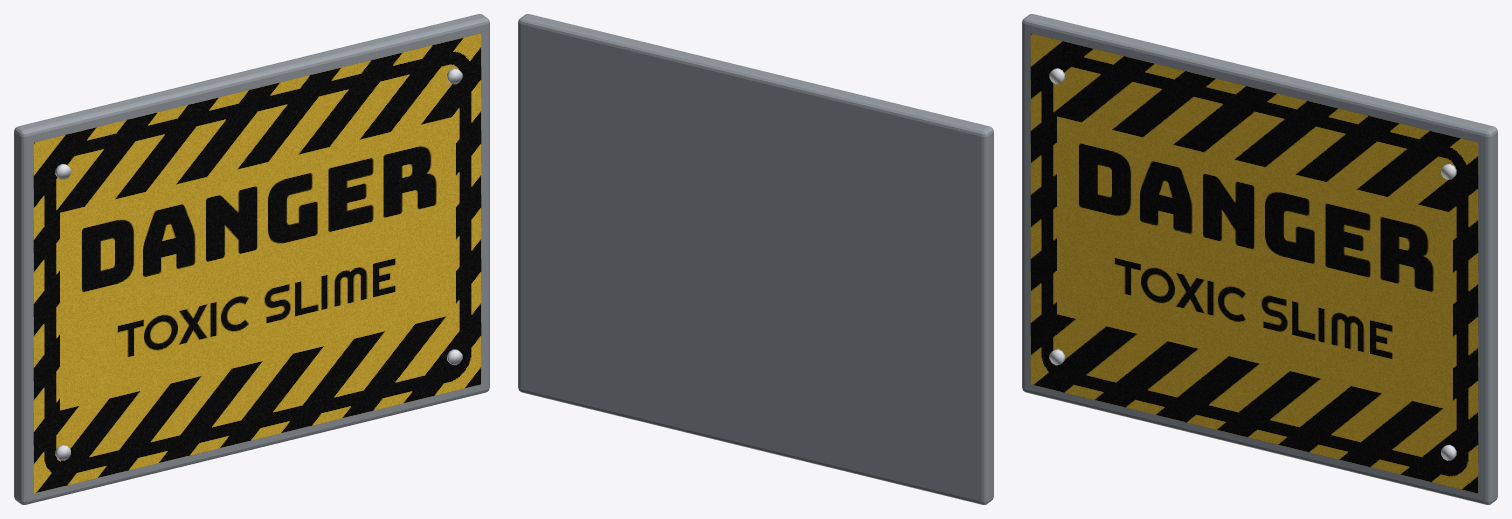
File: Wall_Sign_Danger.fbx
3 renders of one model, left to right at view 1: azimuth 30°, elevation 25°; view 2: azimuth 150°, elevation 25°; view 3: azimuth 330°, elevation 25°, orthographic.
Visible parts, largest first — view 1: Wall_Sign_Danger; view 2: Wall_Sign_Danger; view 3: Wall_Sign_Danger.
Part boxes in pixels (box(x1,y1,x2,y2)): Wall_Sign_Danger: box(14, 14, 489, 504); Wall_Sign_Danger: box(518, 14, 993, 504); Wall_Sign_Danger: box(1022, 14, 1497, 504).
Bounding box in the file's own units: 0.84 × 0.64 × 0.041.
3 materials, 1 textured.
